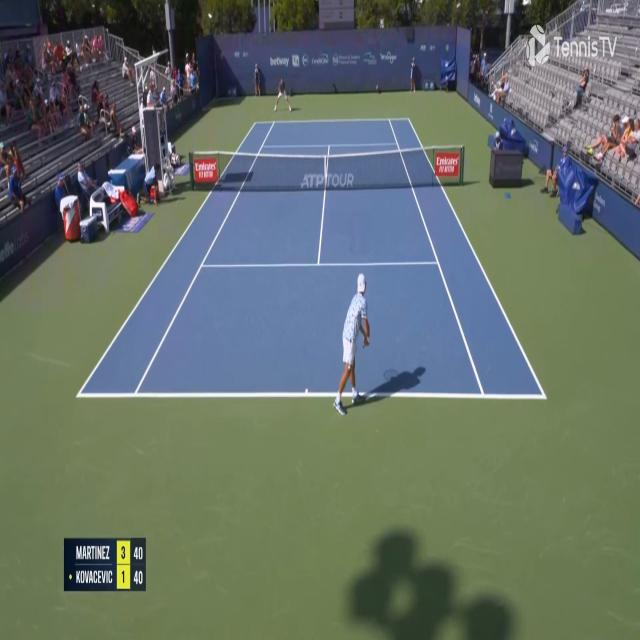tennis-player: (332, 269, 372, 417), (273, 76, 293, 114)
